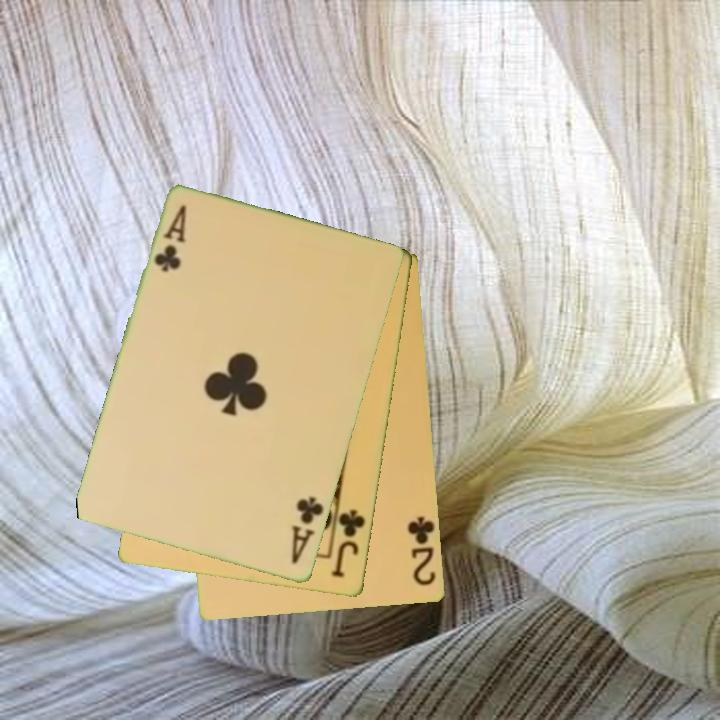2c: (405, 513, 439, 589)
Ac: (288, 493, 327, 568), (151, 202, 190, 276)
Jc: (329, 506, 369, 581)
